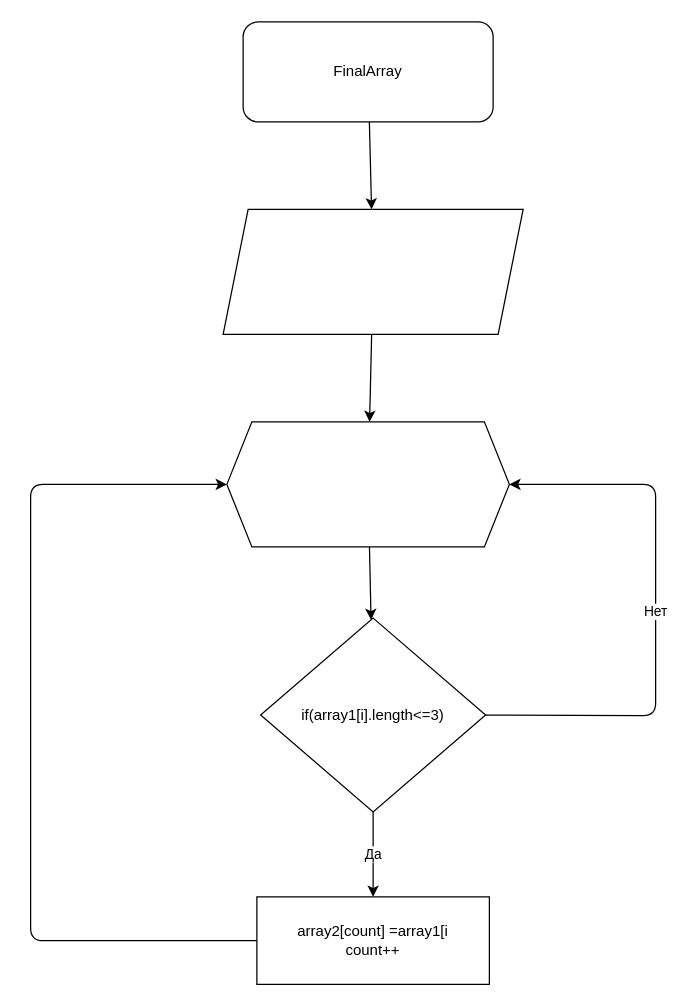
Some shapes in this 689 by 1006 pixel diagram are drawn without their labels. The shapes that lost their labels are listed below. From the top down, each one's centre as x and y in pixels, then its label:
[372,271]: string[] array1 string [] array2 int count = 0
[367,484]: for (int i = 0; i<array1.length; i++)
